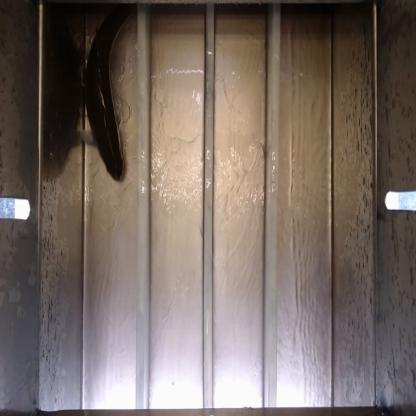pezw: (85, 13, 135, 184)
